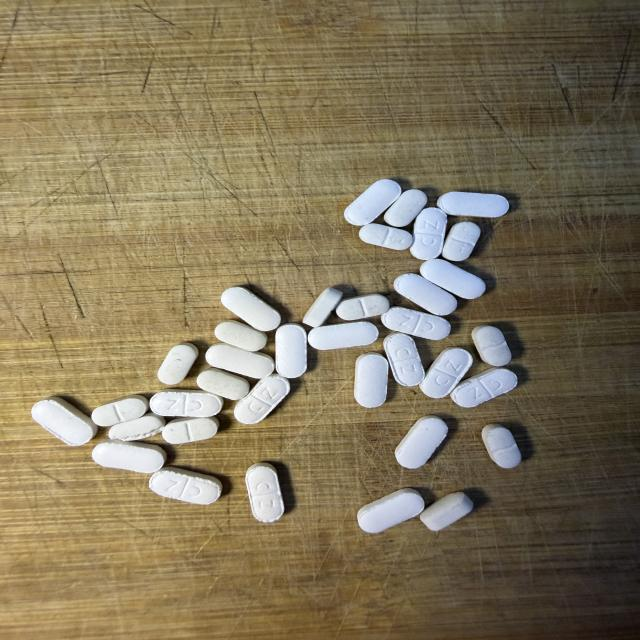pill: (32, 397, 97, 445), (358, 488, 424, 533), (234, 374, 290, 424), (395, 416, 448, 468), (149, 467, 222, 504), (420, 348, 472, 398), (221, 287, 280, 331), (394, 274, 457, 315), (345, 179, 401, 225), (451, 368, 517, 407), (420, 260, 485, 299), (92, 440, 166, 473), (206, 344, 274, 378), (381, 307, 450, 340), (246, 463, 284, 522), (384, 333, 424, 386), (420, 492, 473, 531), (308, 322, 378, 350), (150, 390, 222, 417), (354, 353, 388, 408), (437, 192, 509, 217), (411, 208, 446, 259), (92, 395, 148, 426), (275, 324, 307, 378), (482, 424, 521, 468), (158, 343, 198, 384), (197, 369, 249, 400), (472, 325, 511, 366), (384, 190, 427, 227), (109, 413, 165, 441), (215, 321, 267, 351), (303, 288, 342, 327), (442, 222, 480, 261), (162, 418, 219, 444), (336, 294, 389, 320), (359, 224, 412, 250)
